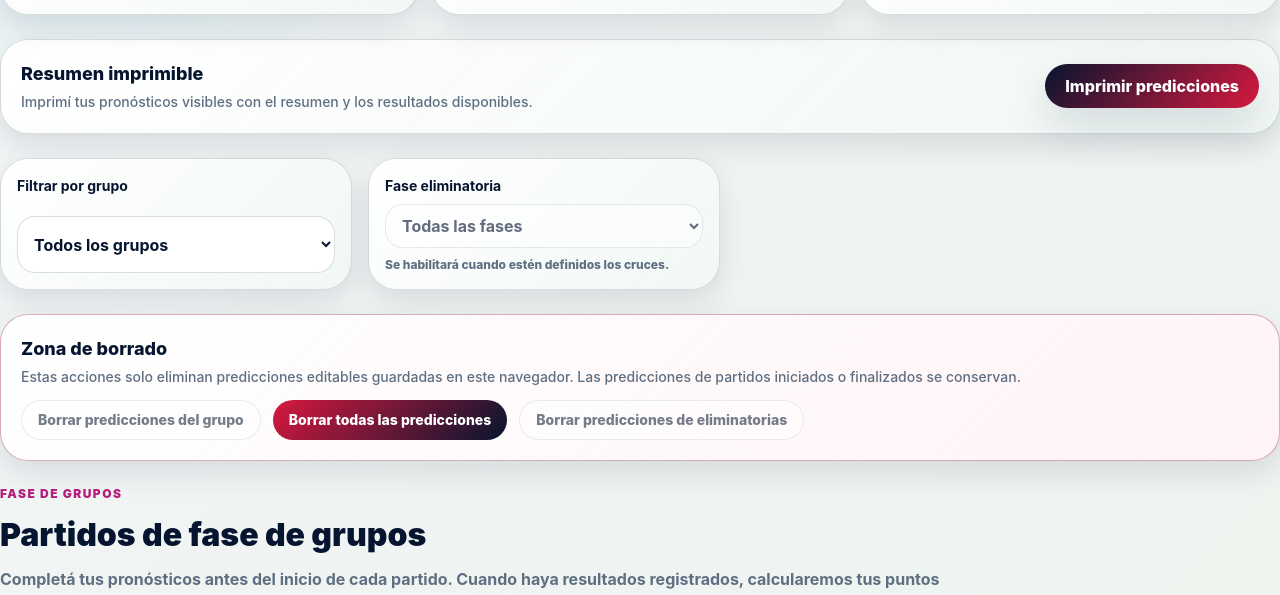
Test: PredictionFixture › clears editable predictions from the selected group without deleting other groups or the user name
(page scrolled)
Select "Grupo B" in the dropdown labelled "Filtrar por grupo". click: (176, 245)
box: [17,216,335,273]
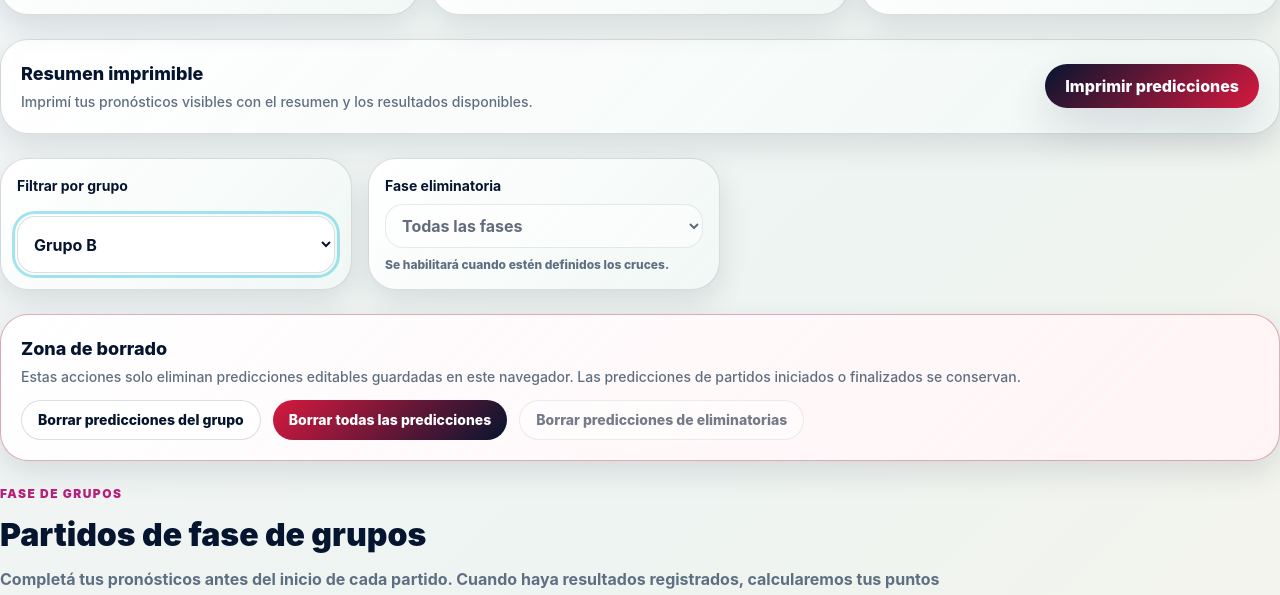
Click the button "Borrar predicciones del grupo". click: click(141, 420)
box: [21,400,261,440]
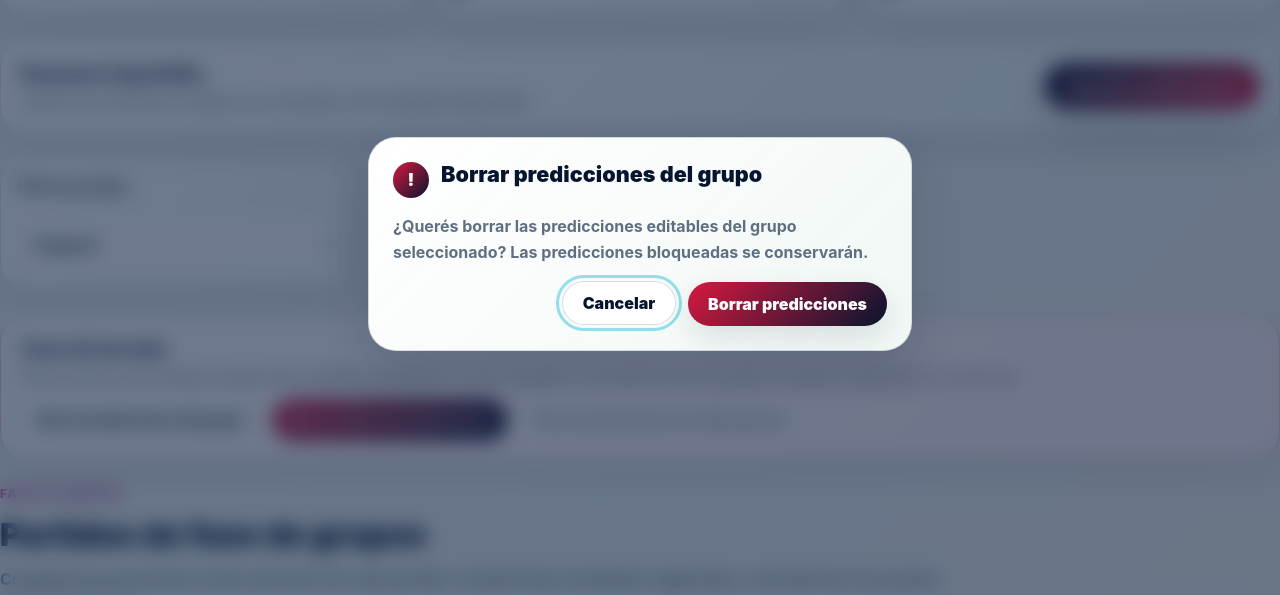
Expected: the dialog shows "Borrar predicciones del grupo", [441,161,762,187]
Expected: the dialog shows "¿Querés borrar las predicciones editables del grupo seleccionado? Las predicciones bloqueadas se conservarán.", [393,216,868,262]
Click the button "Borrar predicciones". click: click(788, 304)
box: [688,282,887,326]
(page scrolled)
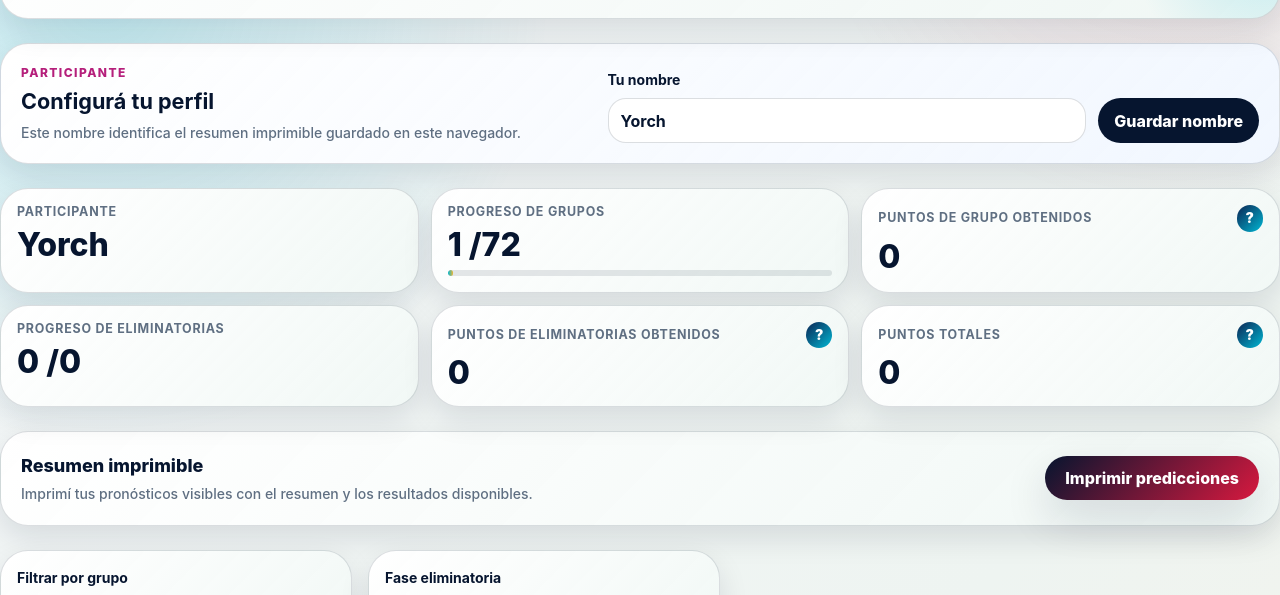
Expected: the element named "Resumen de predicciones" shows "Yorch", [17,225,109,264]
Expected: the element named "Resumen de predicciones" shows "1", [448,225,521,264]
